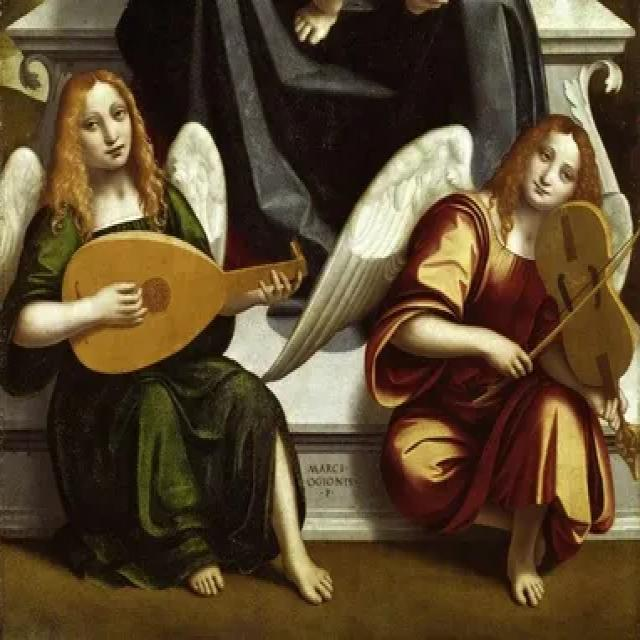angel: (0, 40, 318, 620), (349, 35, 640, 610)
